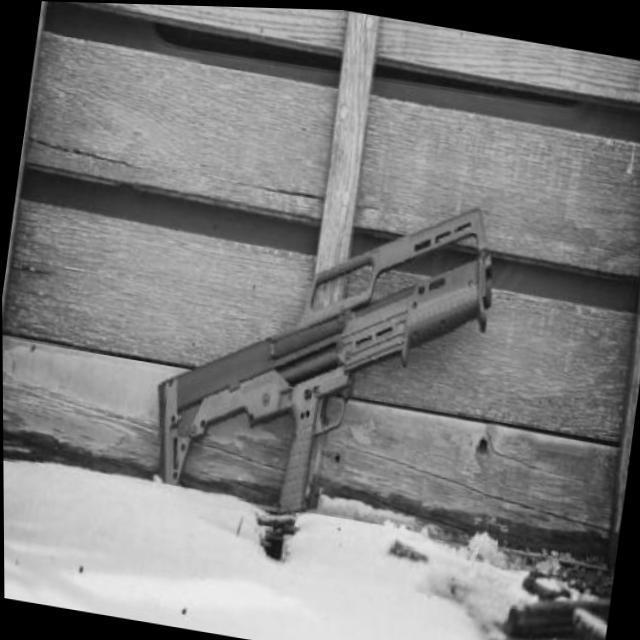weapon: (139, 152, 506, 547)
